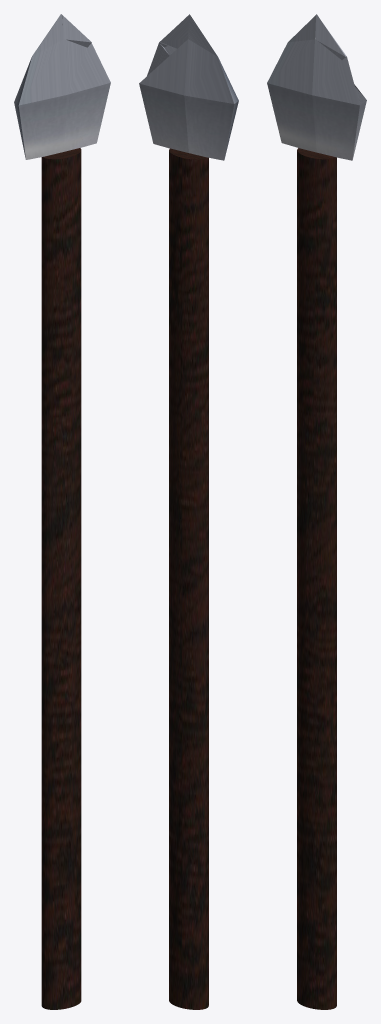
Rendered from spear.obj.
The picture shows the model from 3 angles, left to right: view 1: azimuth 30°, elevation 25°; view 2: azimuth 150°, elevation 25°; view 3: azimuth 330°, elevation 25°; orthographic projection.
Visible parts, largest first — view 1: Cylinder, Cube_Cube.001; view 2: Cylinder, Cube_Cube.001; view 3: Cylinder, Cube_Cube.001.
Part boxes in pixels (x1,y1,x2,y2): Cylinder: (41, 148, 81, 1009); Cube_Cube.001: (14, 14, 110, 159); Cylinder: (169, 148, 208, 1009); Cube_Cube.001: (139, 14, 238, 160); Cylinder: (297, 148, 336, 1009); Cube_Cube.001: (267, 14, 366, 160).
Size of the model in its own units: 3.69 by 37.62 by 0.9375.
